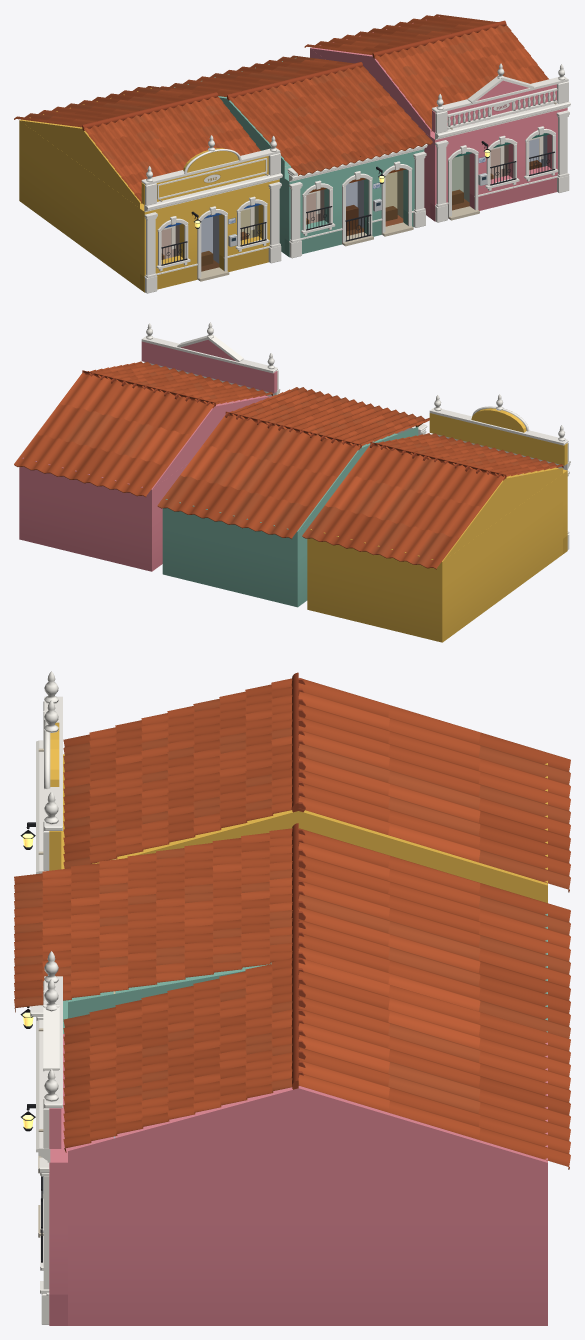
The model's file is cuiaba-casario-historico-row.glb.
3 renders of one model, top to bottom at view 1: azimuth 30°, elevation 25°; view 2: azimuth 150°, elevation 25°; view 3: azimuth 270°, elevation 25°, orthographic. The views are drawn at different scales.
Parts seen in each view (by area): view 1: casarao (×3); view 2: casarao (×3); view 3: casarao (×3).
Boxes of the visible parts, x1,y1,x2,y2 form: casarao (×3): [14, 14, 570, 293]; casarao (×3): [14, 322, 570, 642]; casarao (×3): [14, 671, 570, 1325].
Bounding box in the file's own units: 17.57 × 5.63 × 10.05.
Materials: 51 (5 with a texture image).
